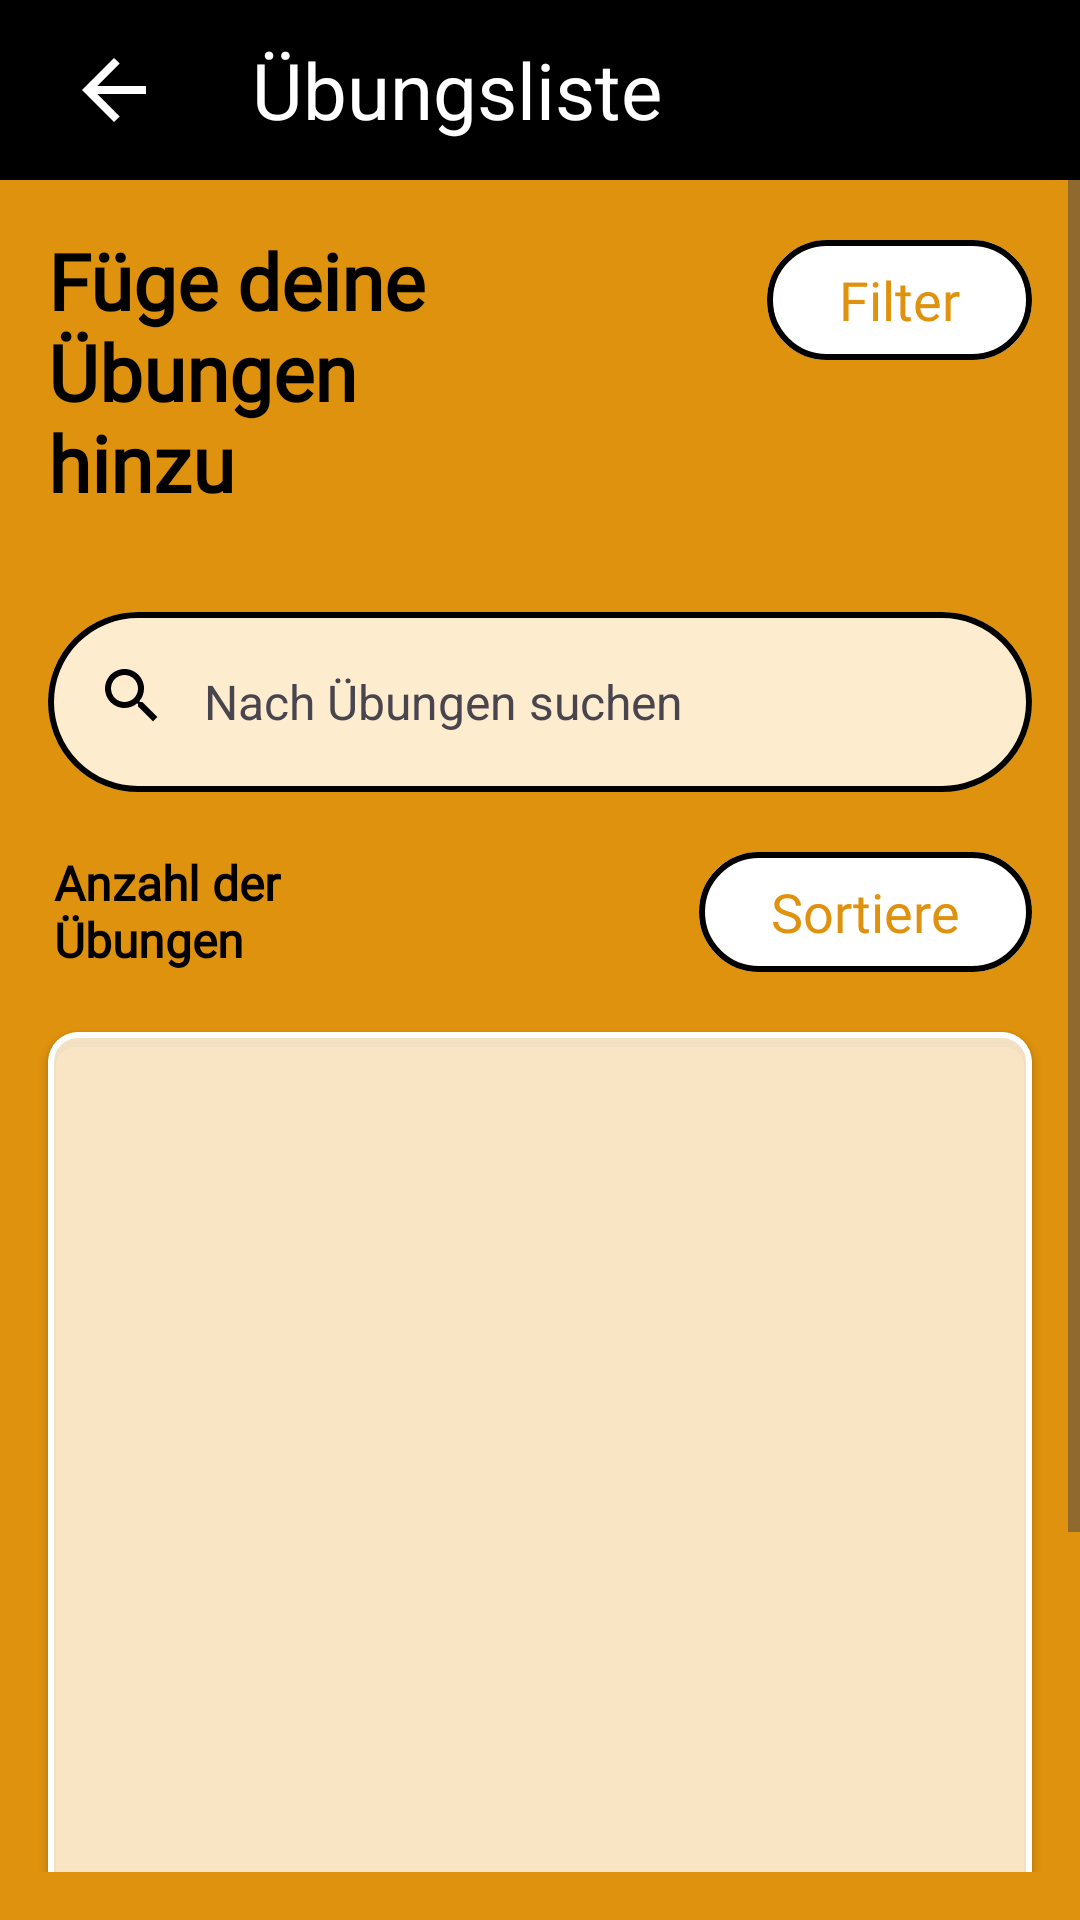

Point at icon controls on the screen. Image size 1080*1920, points as (x,y).
Navigate back: (114,90)
